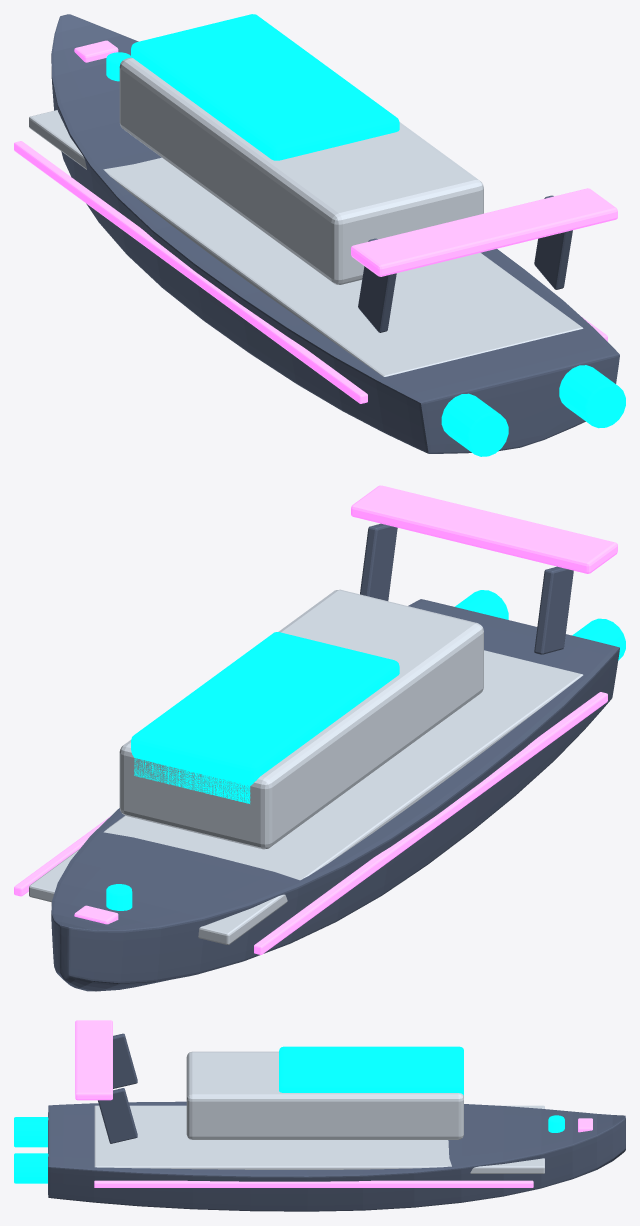
File: boat_speedboat.glb
The picture shows the model from 3 angles, top to bottom: view 1: azimuth 30°, elevation 25°; view 2: azimuth 150°, elevation 25°; view 3: azimuth 270°, elevation 25°; orthographic projection. The views are drawn at different scales.
Visible parts, largest first — view 1: Speedboat_Hull, CockpitCowling, Speedboat_MainDeck, CanopyGlass, AeroFoilWing, Speedboat_NeonRailL, JetNozzleL, JetNozzleR, WingStrutL, WingStrutR, Speedboat_BowLight; view 2: Speedboat_Hull, CockpitCowling, CanopyGlass, Speedboat_MainDeck, AeroFoilWing, Speedboat_NeonRailL, WingStrutL, WingStrutR, JetNozzleL, JetNozzleR, Speedboat_NeonRailR; view 3: Speedboat_Hull, CockpitCowling, Speedboat_MainDeck, CanopyGlass, Speedboat_NeonRailR, AeroFoilWing, WingStrutR, JetNozzleR, JetNozzleL, WingStrutL.
Boxes of the visible parts, bbox=[...] form: Speedboat_Hull: bbox=[51, 14, 619, 453]; CockpitCowling: bbox=[119, 57, 483, 284]; Speedboat_MainDeck: bbox=[29, 110, 583, 376]; CanopyGlass: bbox=[131, 14, 399, 160]; AeroFoilWing: bbox=[351, 188, 617, 276]; Speedboat_NeonRailL: bbox=[14, 141, 367, 403]; JetNozzleL: bbox=[441, 393, 508, 456]; JetNozzleR: bbox=[559, 365, 625, 428]; WingStrutL: bbox=[358, 238, 396, 332]; WingStrutR: bbox=[534, 195, 572, 289]; Speedboat_BowLight: bbox=[74, 40, 118, 62]; Speedboat_Hull: bbox=[51, 599, 619, 991]; CockpitCowling: bbox=[119, 589, 483, 849]; CanopyGlass: bbox=[131, 632, 399, 803]; Speedboat_MainDeck: bbox=[29, 650, 583, 944]; AeroFoilWing: bbox=[351, 485, 617, 573]; Speedboat_NeonRailL: bbox=[254, 692, 607, 954]; WingStrutL: bbox=[534, 566, 573, 654]; WingStrutR: bbox=[360, 523, 397, 600]; JetNozzleL: bbox=[572, 618, 625, 660]; JetNozzleR: bbox=[455, 590, 508, 619]; Speedboat_NeonRailR: bbox=[14, 815, 111, 896]; Speedboat_Hull: bbox=[48, 1101, 625, 1211]; CockpitCowling: bbox=[186, 1051, 463, 1139]; Speedboat_MainDeck: bbox=[94, 1105, 544, 1173]; CanopyGlass: bbox=[279, 1046, 463, 1095]; Speedboat_NeonRailR: bbox=[94, 1180, 533, 1187]; AeroFoilWing: bbox=[75, 1020, 112, 1100]; WingStrutR: bbox=[98, 1088, 137, 1143]; JetNozzleR: bbox=[14, 1153, 48, 1183]; JetNozzleL: bbox=[14, 1117, 48, 1147]; WingStrutL: bbox=[113, 1033, 137, 1088].
Bounding box in the file's own units: 2.64 × 2.23 × 8.89.
